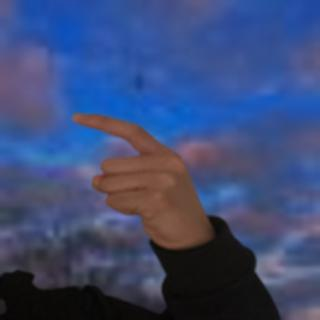WHY: (64, 107, 207, 247)
